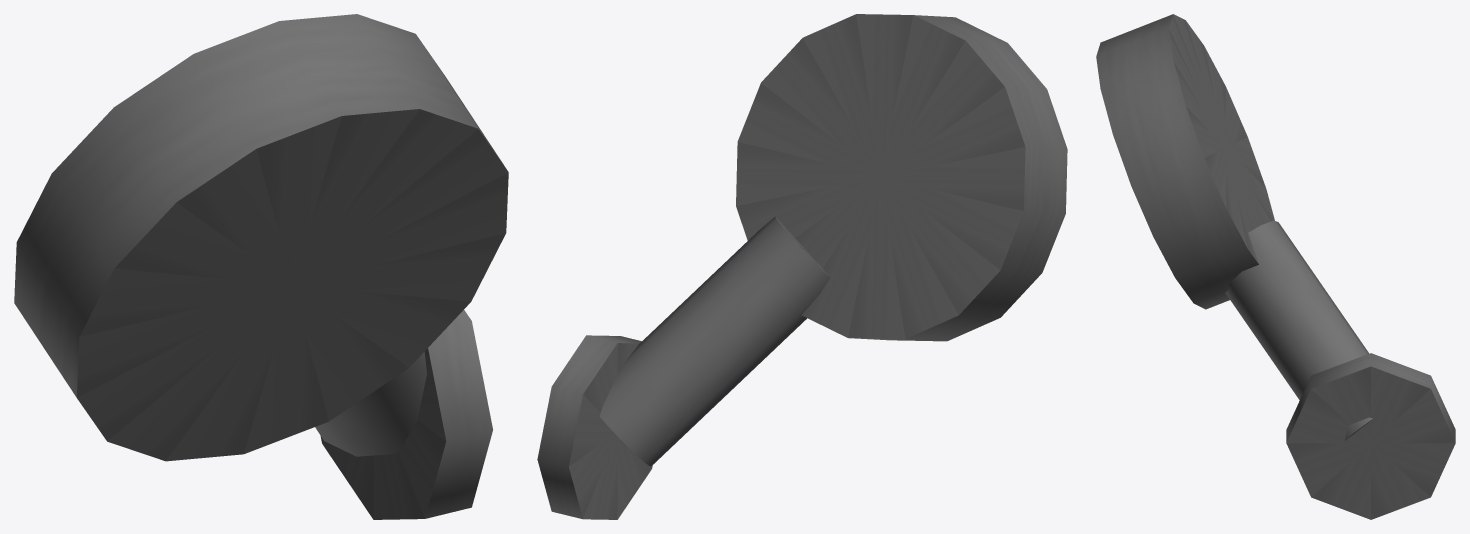
File: mastarmcurve_8x2_c1_east.obj
The picture shows the model from 3 angles, left to right: view 1: azimuth 30°, elevation 25°; view 2: azimuth 150°, elevation 25°; view 3: azimuth 270°, elevation 25°; orthographic projection. The views are drawn at different scales.
Visible parts, largest first — view 1: mastarm_8x2_c1_east; view 2: mastarm_8x2_c1_east; view 3: mastarm_8x2_c1_east.
Part boxes in pixels (x1,y1,x2,y2): mastarm_8x2_c1_east: [14, 14, 508, 519]; mastarm_8x2_c1_east: [537, 14, 1067, 519]; mastarm_8x2_c1_east: [1096, 14, 1455, 519].
Size of the model in its own units: 0.8491 by 1.05 by 0.8488.
